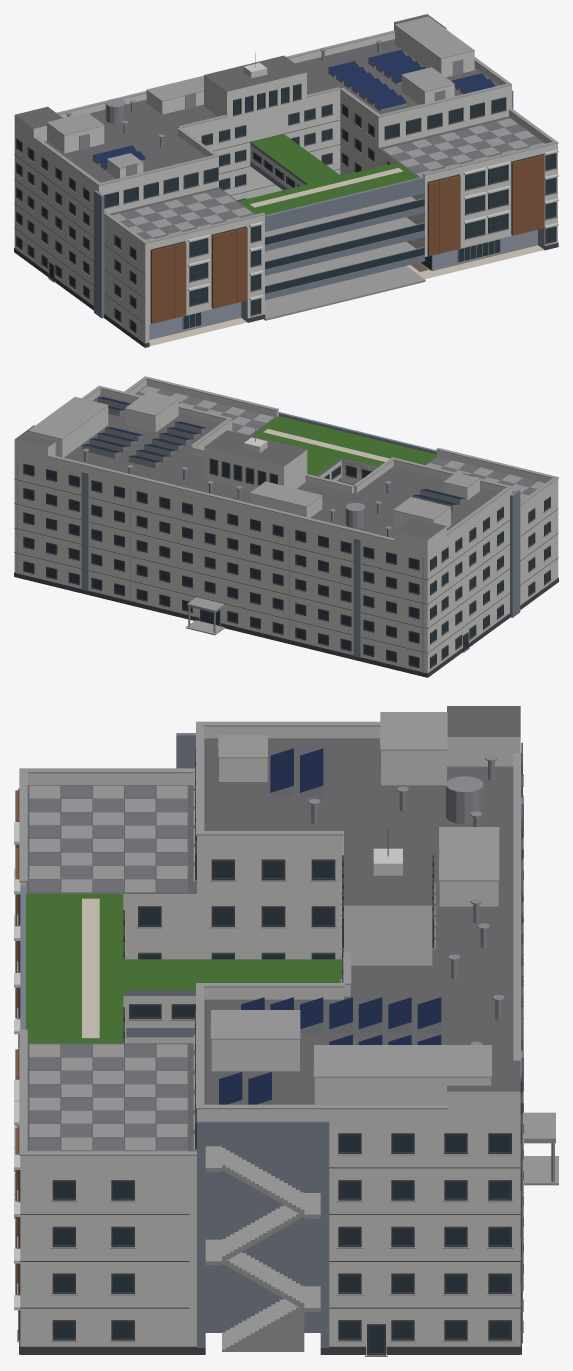
Rendered from NB_Building.glb.
3 views of the same model, one above another, from view 1: azimuth 30°, elevation 25°; view 2: azimuth 150°, elevation 25°; view 3: azimuth 270°, elevation 25° (orthographic). The views are drawn at different scales.
Visible parts, largest first — view 1: NB_Shell_Hollow, NB_Roof_Details, NB_Gallery_Courtyards, NB_Windows, NB_Copper_Fins, NB_Cafe_E2, NB_End_Ribs; view 2: NB_Shell_Hollow, NB_Roof_Details, NB_Windows, NB_Gallery_Courtyards, NB_End_Ribs; view 3: NB_Shell_Hollow, NB_Roof_Details, NB_Carved_Stairs, NB_Windows, NB_Gallery_Courtyards, NB_Copper_Fins.
Boxes of the visible parts, box(x1,y1,x2,y2) form: NB_Shell_Hollow: box(14, 14, 557, 343); NB_Roof_Details: box(14, 16, 558, 347); NB_Gallery_Courtyards: box(238, 134, 425, 320); NB_Windows: box(15, 83, 558, 334); NB_Copper_Fins: box(150, 153, 544, 323); NB_Cafe_E2: box(149, 228, 544, 346); NB_End_Ribs: box(94, 190, 104, 318); NB_Shell_Hollow: box(14, 385, 558, 673); NB_Roof_Details: box(14, 376, 558, 677); NB_Windows: box(22, 458, 551, 669); NB_Gallery_Courtyards: box(252, 411, 436, 484); NB_End_Ribs: box(510, 489, 520, 617); NB_Shell_Hollow: box(20, 706, 520, 1354); NB_Roof_Details: box(19, 712, 558, 1354); NB_Carved_Stairs: box(197, 1121, 329, 1351); NB_Windows: box(14, 747, 523, 1356); NB_Gallery_Courtyards: box(20, 886, 343, 1043); NB_Copper_Fins: box(15, 788, 20, 1294).
Size of the model in its own units: 125 by 50.5 by 74.04.
